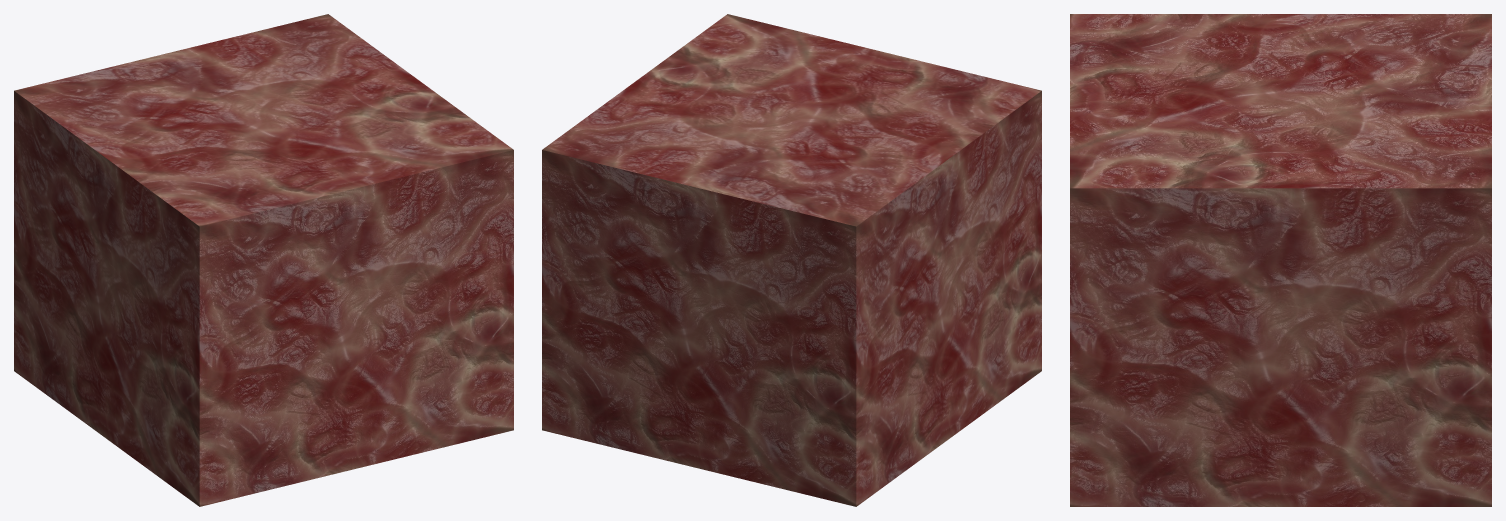
Rendered from Mind Fragments.fbx.
3 views of the same model, side by side, from view 1: azimuth 30°, elevation 25°; view 2: azimuth 150°, elevation 25°; view 3: azimuth 270°, elevation 25° (orthographic). The views are drawn at different scales.
Visible parts, largest first — view 1: Box002; view 2: Box002; view 3: Box002.
Part boxes in pixels (x1,y1,x2,y2): Box002: (14, 14, 513, 506); Box002: (542, 14, 1041, 506); Box002: (1070, 14, 1491, 506).
Bounding box in the file's own units: 16.8 × 14.32 × 17.18.
Materials: 1 (1 with a texture image).
